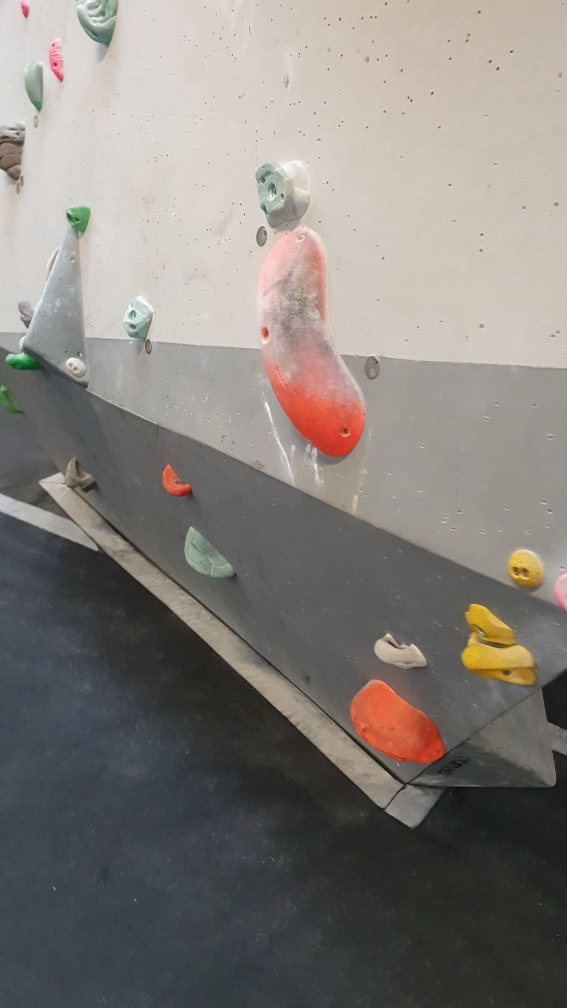Hand Start: (252, 229, 273, 250)
Jug: (368, 630, 430, 669), (163, 468, 193, 503), (362, 356, 380, 384), (140, 338, 157, 356)
Pinch: (255, 230, 365, 457)
